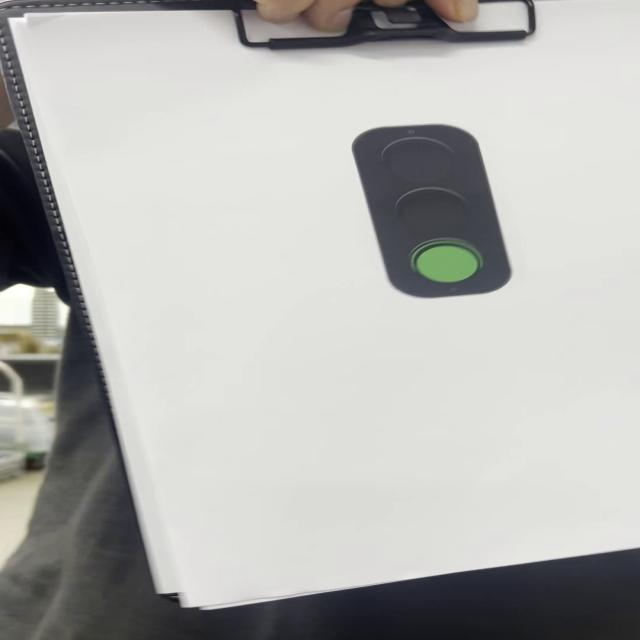green: (354, 123, 517, 300)
